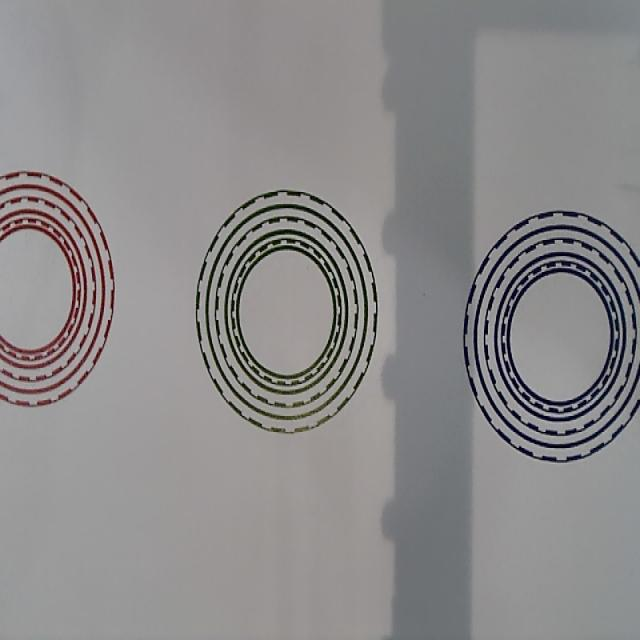g: (196, 189, 378, 434)
